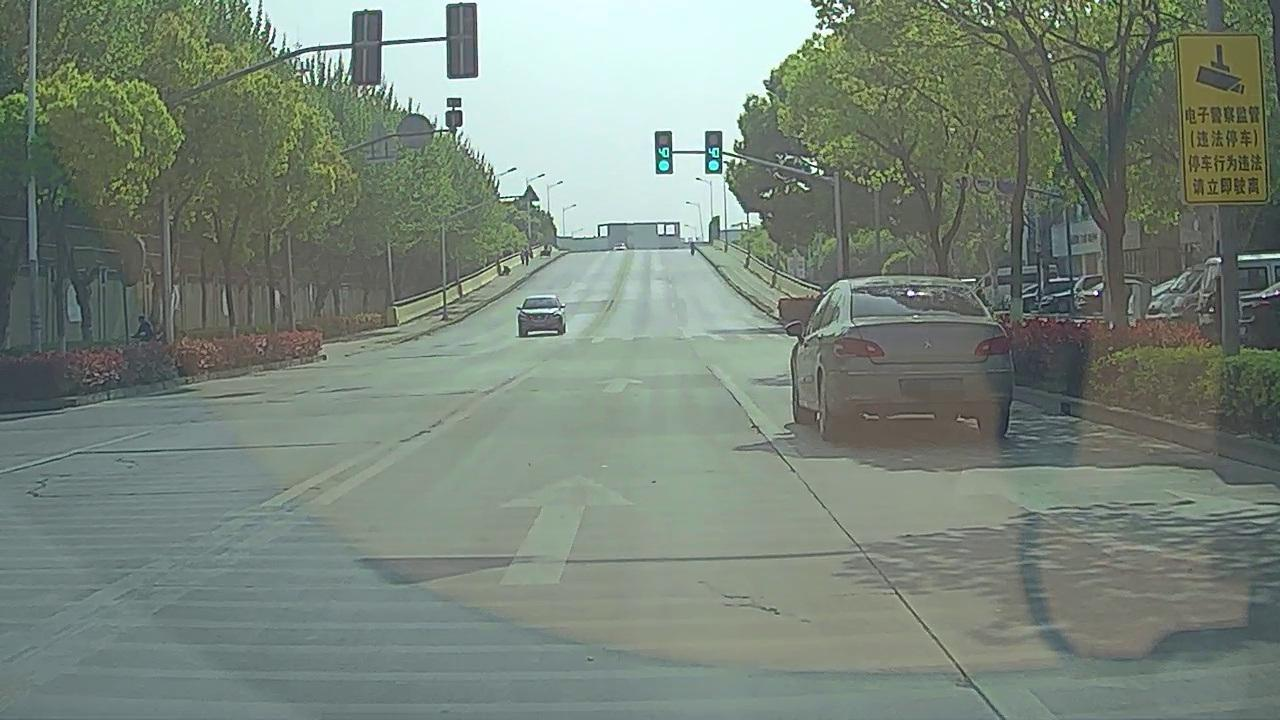traffic_light: (656, 131, 672, 173), (706, 132, 721, 174)
